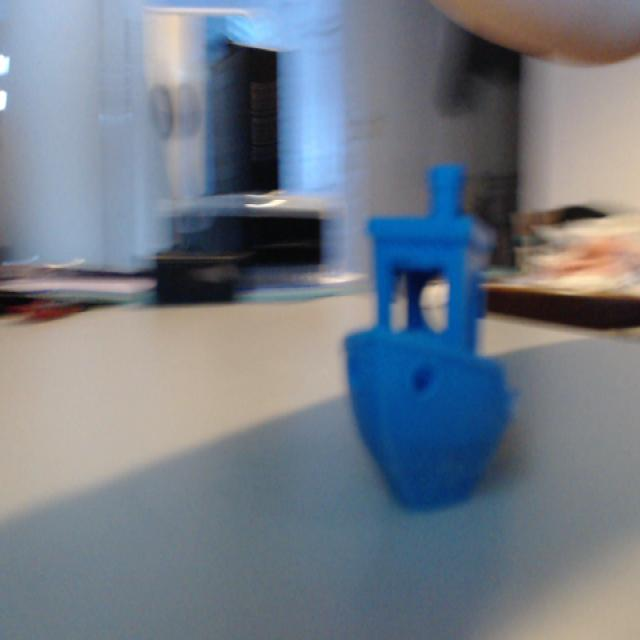benchy: (339, 157, 517, 512)
